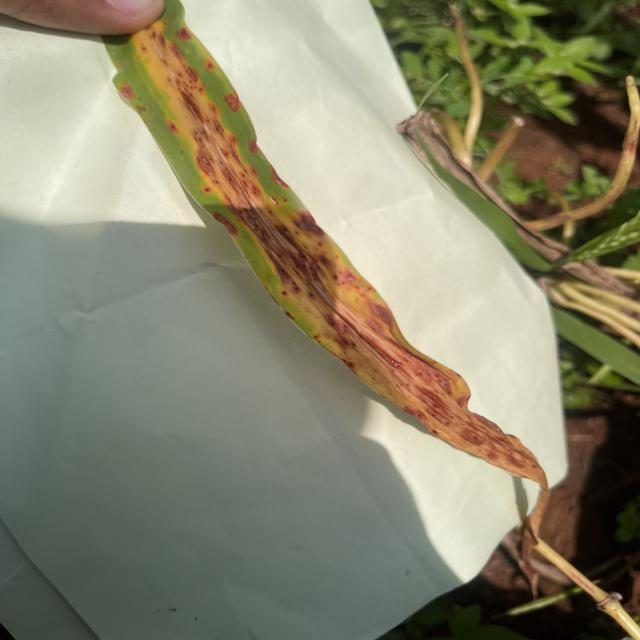millet_rust: (96, 0, 560, 515)
